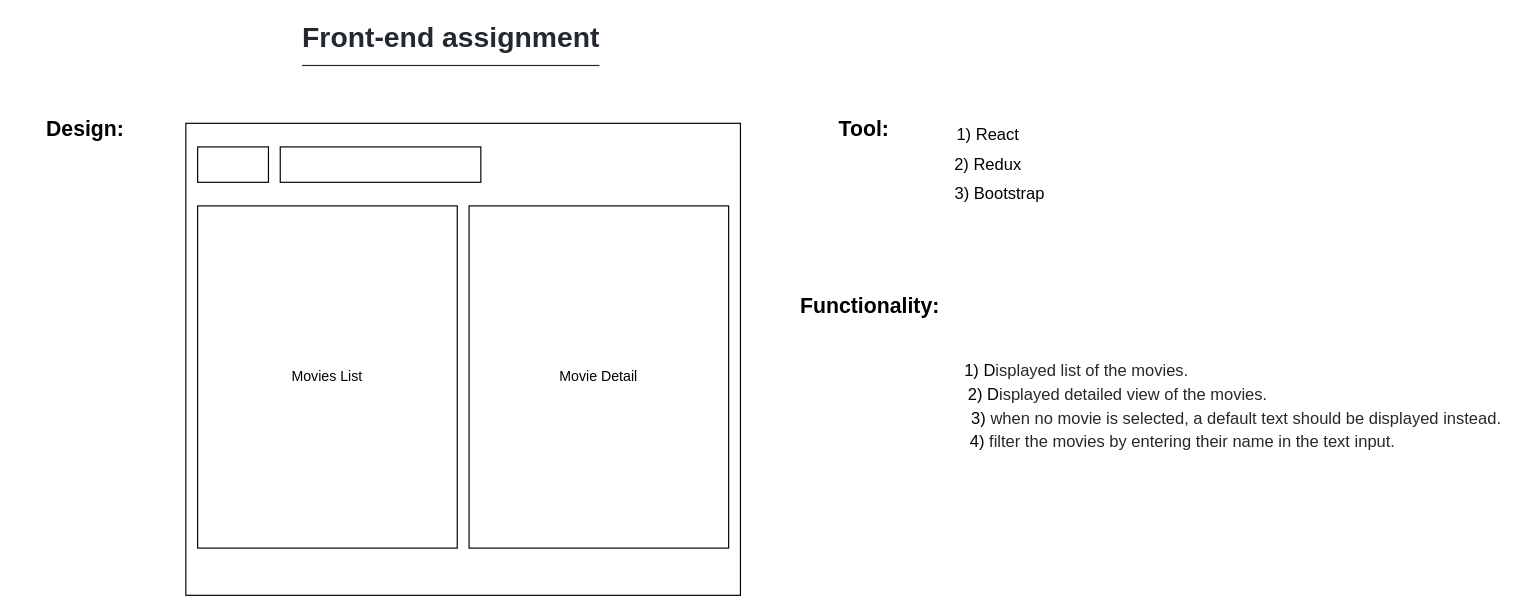
Image size: 1527x616. Some labels were removed from this diagram. Each missing label, with the box of its shape:
button: (196, 146, 268, 182)
search: (279, 146, 481, 182)
